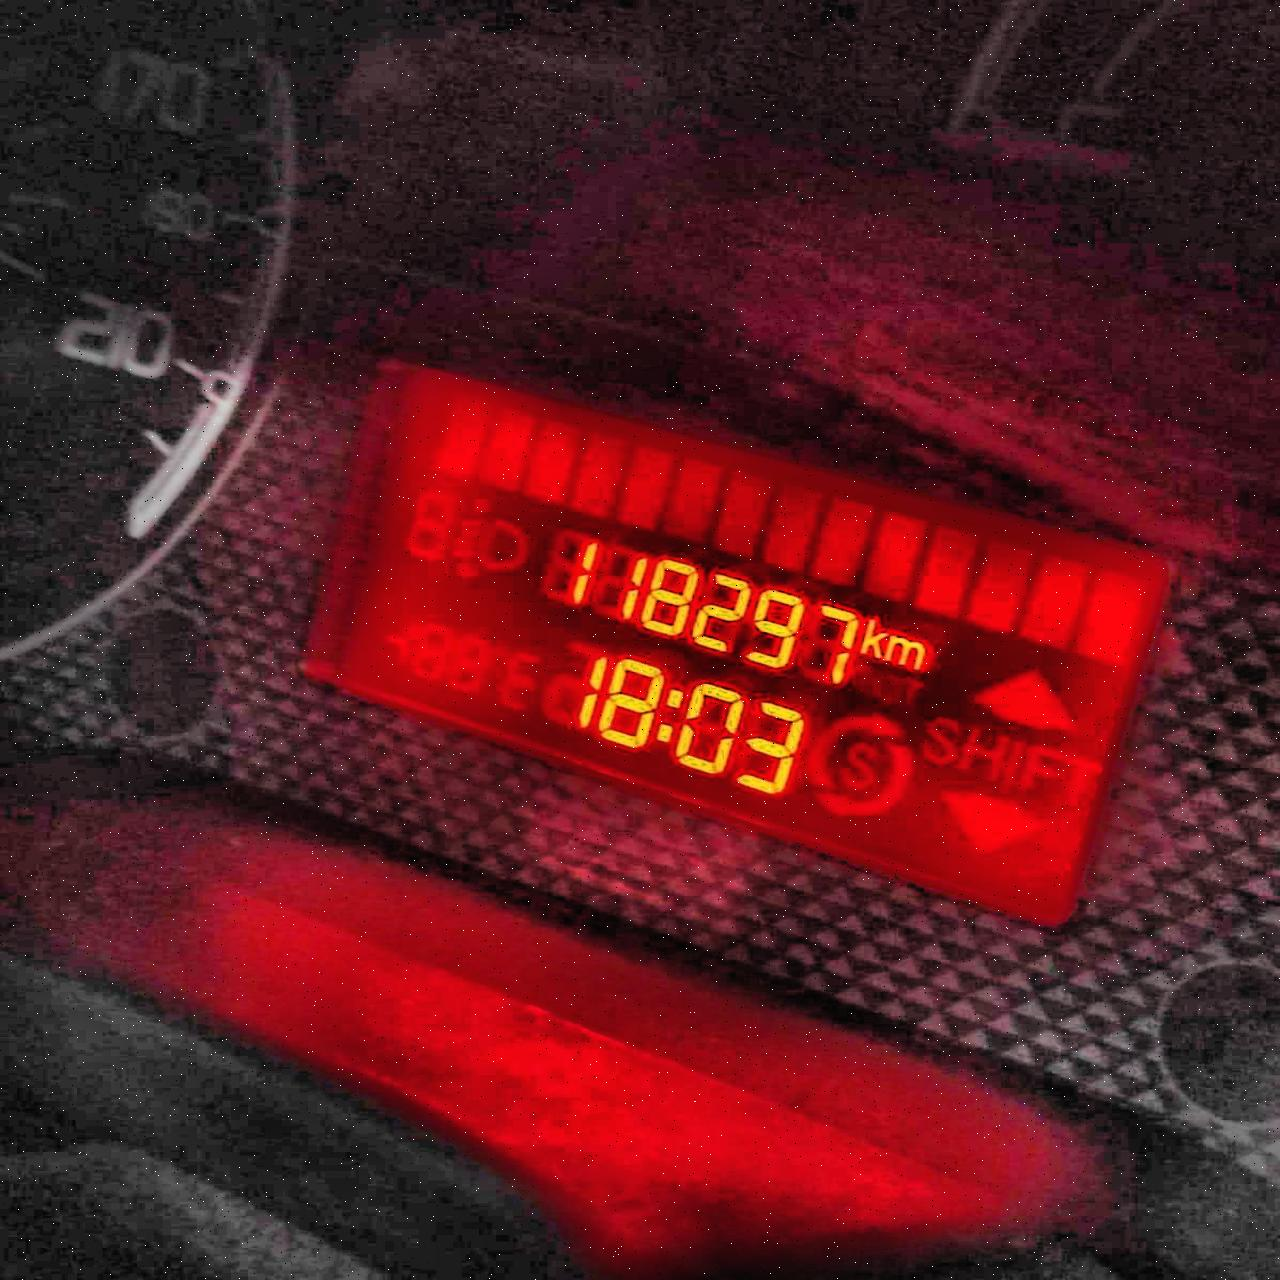0: (682, 670, 740, 783)
1: (560, 532, 599, 618), (613, 551, 651, 626), (571, 649, 606, 728)
2: (694, 558, 743, 658)
3: (749, 695, 808, 798)
7: (815, 594, 865, 696)
8: (595, 644, 658, 757), (640, 547, 690, 642)
9: (750, 577, 803, 678)
X: (886, 631, 927, 670), (656, 685, 682, 744), (858, 617, 885, 663)
odometer: (301, 358, 1178, 941)
